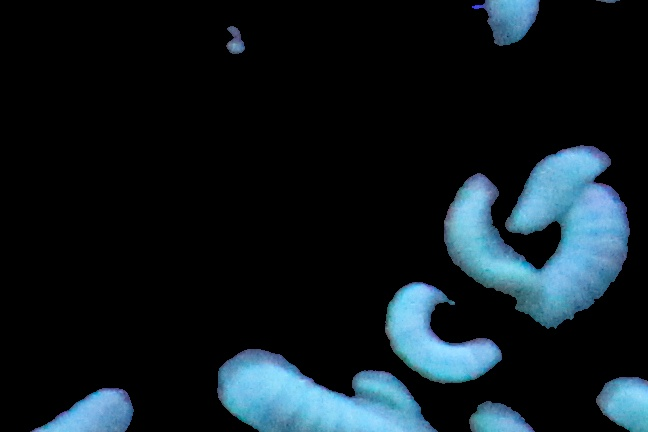larvae: (518, 181, 630, 327), (219, 350, 409, 432), (435, 173, 534, 297), (385, 282, 503, 379), (509, 146, 613, 234), (33, 380, 134, 432), (351, 369, 422, 415)
